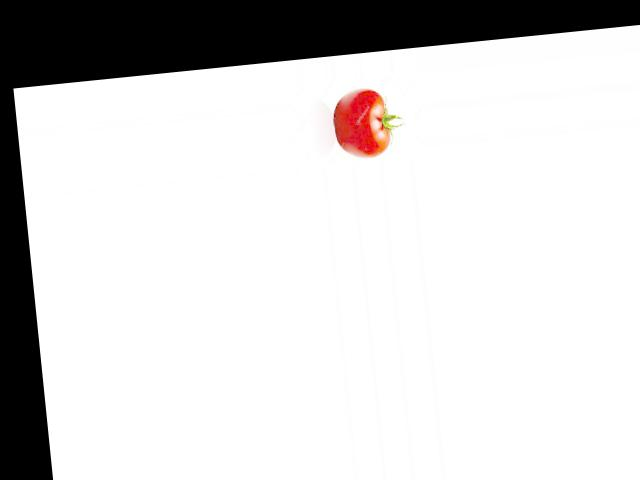tomato: (330, 85, 392, 161)
